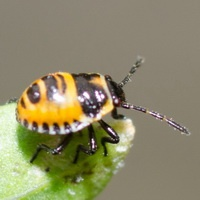insect: (16, 57, 143, 162)
